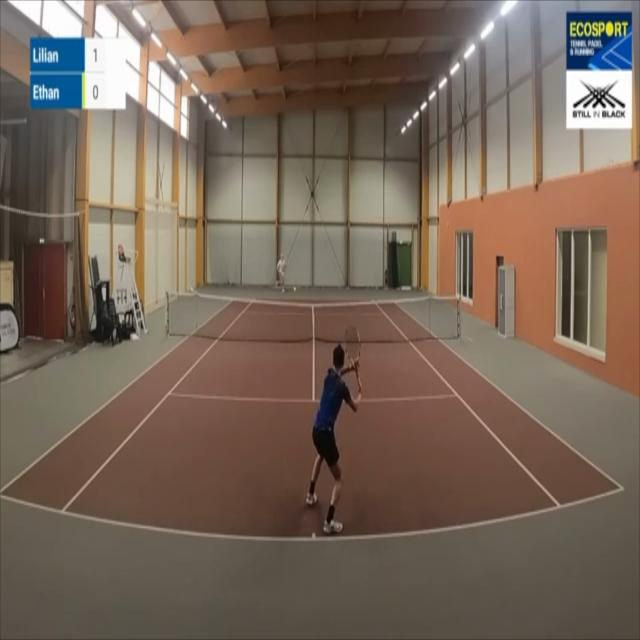ball: (293, 285, 297, 293)
